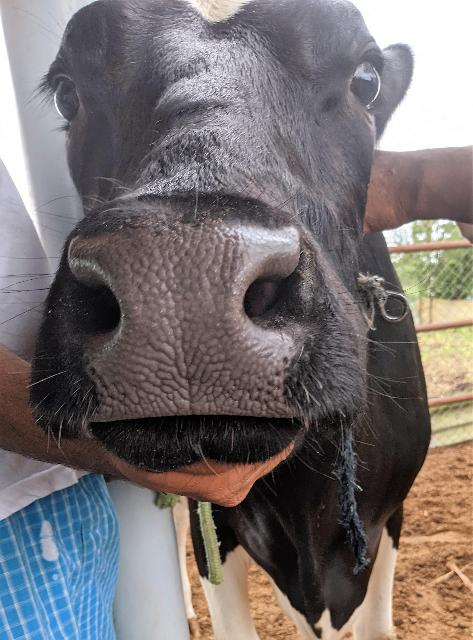Muzzle: (104, 233, 254, 415)
